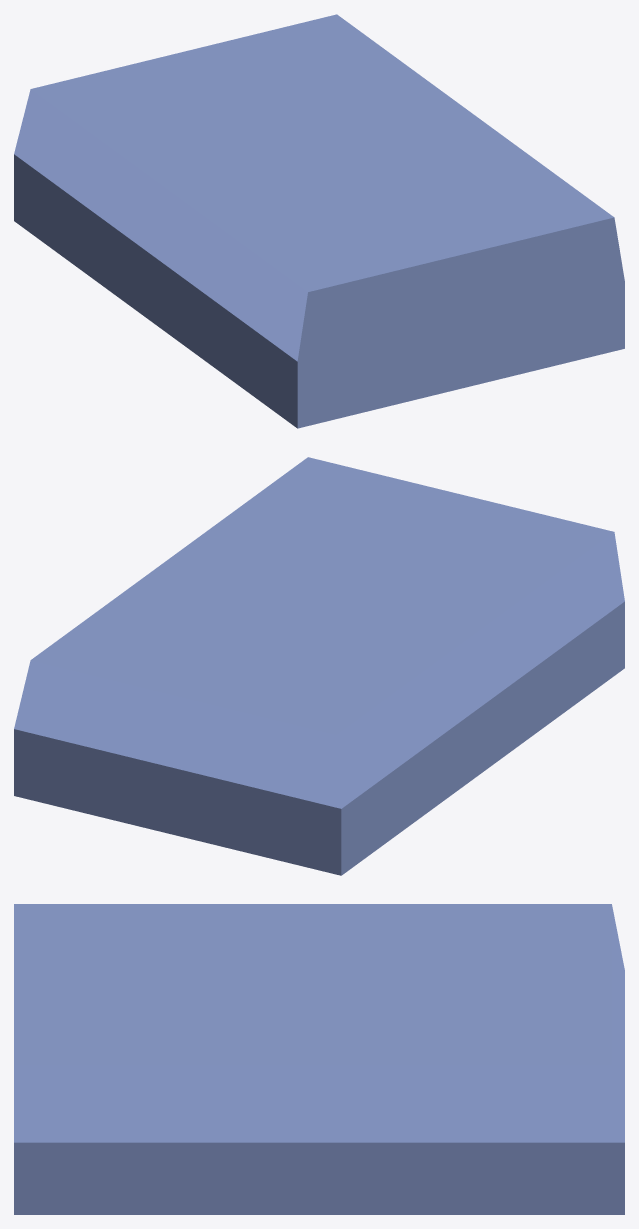
File: tile-cliff-end.glb
3 views of the same model, one above another, from view 1: azimuth 30°, elevation 25°; view 2: azimuth 150°, elevation 25°; view 3: azimuth 270°, elevation 25° (orthographic). The views are drawn at different scales.
Parts seen in each view (by area): view 1: tiles-cliff_end; view 2: tiles-cliff_end; view 3: tiles-cliff_end.
Part boxes in pixels (x1=…): tiles-cliff_end: x1=14, y1=14, x2=624, y2=428; tiles-cliff_end: x1=14, y1=457, x2=624, y2=875; tiles-cliff_end: x1=14, y1=904, x2=624, y2=1214.
Size of the model in its own units: 32 by 12.5 by 48.
